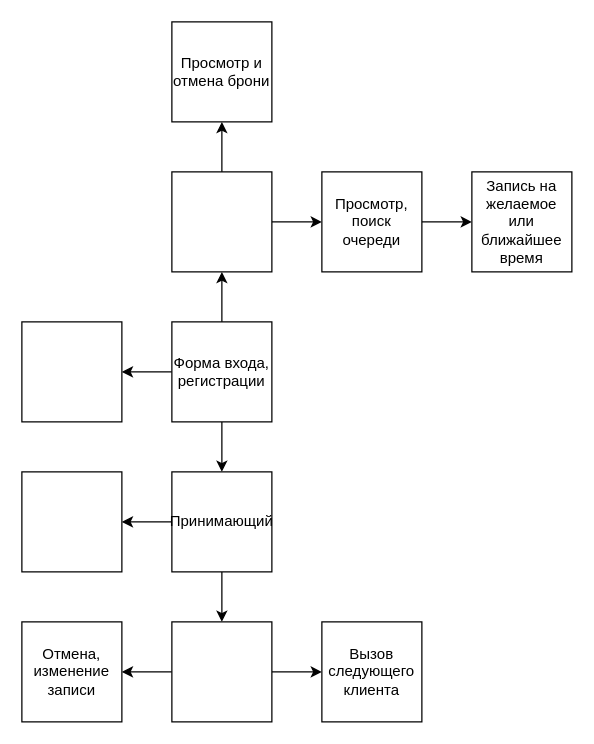
Image size: 594x744. Some labels were removed from this diagram. The centre of each missing label's shape, as x and y in pixels:
Клиент: [221,221]
Просмотр очередей и клиентов: [221,671]
Регистрация: [71,371]
Создание очереди: [71,521]
